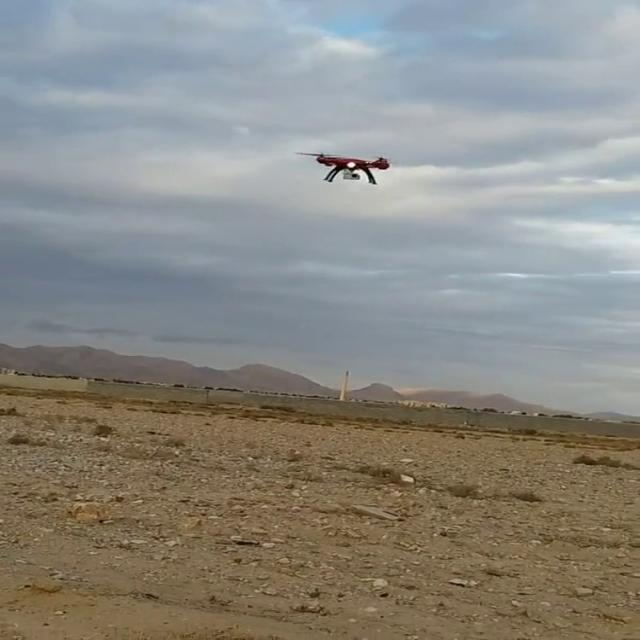drone: (305, 151, 395, 183)
